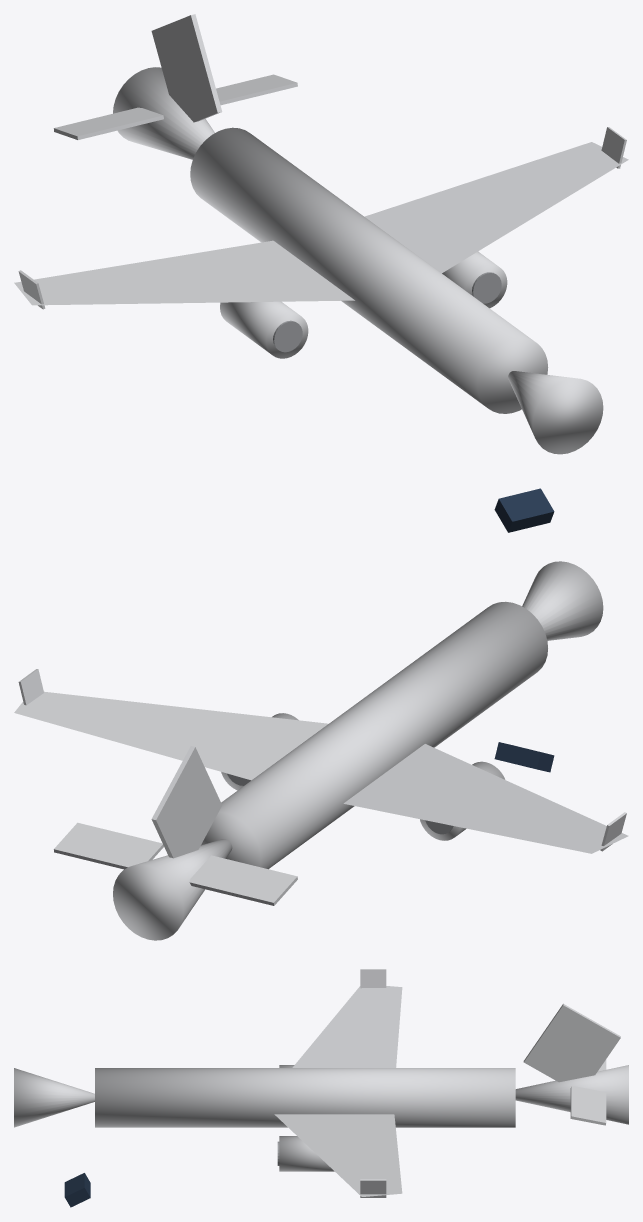
File: airplane.glb
3 renders of one model, top to bottom at view 1: azimuth 30°, elevation 25°; view 2: azimuth 150°, elevation 25°; view 3: azimuth 270°, elevation 25°, orthographic. The views are drawn at different scales.
Parts seen in each view (by area): view 1: Fuselage, Main_Wing_R, Main_Wing_L, Cone, Cone.001, Vertical_Stabilizer, Engine_L, Cube, Cube.003, Engine_R, Cube.004, Cylinder (+1 smaller); view 2: Fuselage, Main_Wing_L, Main_Wing_R, Cone.001, Cone, Vertical_Stabilizer, Cube.003, Cube.004, Cube, Cube.002, Engine_L; view 3: Fuselage, Main_Wing_R, Main_Wing_L, Vertical_Stabilizer, Cone.001, Cone, Engine_R, Cube.004, Cube, Cube.001, Cube.002.
Boxes of the visible parts, x1=… form: Fuselage: x1=190, y1=127, x2=548, y2=413; Main_Wing_R: x1=364, y1=142, x2=628, y2=273; Main_Wing_L: x1=14, y1=240, x2=354, y2=305; Cone: x1=508, y1=371, x2=603, y2=454; Cone.001: x1=113, y1=67, x2=214, y2=159; Vertical_Stabilizer: x1=151, y1=14, x2=222, y2=122; Engine_L: x1=220, y1=301, x2=308, y2=358; Cube: x1=494, y1=488, x2=554, y2=532; Cube.003: x1=53, y1=107, x2=163, y2=139; Engine_R: x1=442, y1=251, x2=507, y2=308; Cube.004: x1=216, y1=74, x2=297, y2=105; Cylinder: x1=273, y1=320, x2=302, y2=352; Fuselage: x1=201, y1=601, x2=547, y2=869; Main_Wing_L: x1=343, y1=744, x2=628, y2=853; Main_Wing_R: x1=14, y1=691, x2=328, y2=780; Cone.001: x1=113, y1=839, x2=232, y2=940; Cone: x1=522, y1=561, x2=603, y2=640; Vertical_Stabilizer: x1=151, y1=746, x2=222, y2=858; Cube.003: x1=189, y1=855, x2=297, y2=905; Cube.004: x1=53, y1=822, x2=163, y2=869; Cube: x1=494, y1=742, x2=554, y2=772; Cube.002: x1=18, y1=669, x2=43, y2=705; Engine_L: x1=420, y1=761, x2=505, y2=840; Fuselage: x1=95, y1=1068, x2=515, y2=1127; Main_Wing_R: x1=274, y1=1114, x2=402, y2=1196; Main_Wing_L: x1=292, y1=986, x2=402, y2=1067; Vertical_Stabilizer: x1=523, y1=1003, x2=620, y2=1082; Cone.001: x1=515, y1=1065, x2=628, y2=1124; Cone: x1=14, y1=1068, x2=94, y2=1127; Engine_R: x1=279, y1=1136, x2=334, y2=1171; Cube.004: x1=570, y1=1085, x2=606, y2=1125; Cube: x1=64, y1=1173, x2=90, y2=1207; Cube.001: x1=360, y1=969, x2=386, y2=988; Cube.002: x1=360, y1=1179, x2=386, y2=1197.
Size of the model in its own units: 31.2 by 13.34 by 38.
